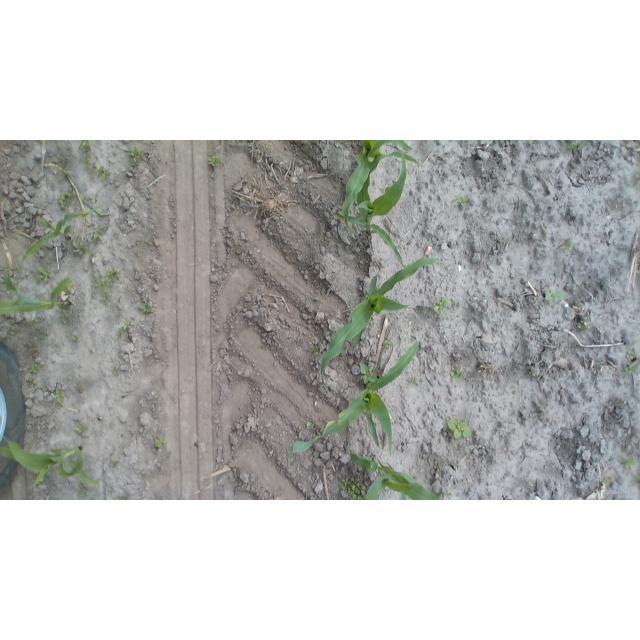Maize: (319, 257, 437, 391), (291, 341, 421, 455), (332, 151, 406, 268), (342, 140, 419, 232), (1, 435, 100, 491), (351, 449, 442, 500), (22, 208, 95, 265), (1, 261, 73, 316), (44, 162, 69, 174)
Weeds: (82, 156, 111, 178), (339, 476, 364, 498), (448, 419, 472, 439), (360, 363, 379, 384), (434, 296, 449, 321), (73, 238, 90, 254), (36, 266, 52, 283), (104, 266, 120, 283), (568, 140, 589, 152), (450, 367, 465, 381), (118, 317, 133, 330), (130, 149, 143, 164), (546, 290, 565, 300), (622, 456, 636, 468), (74, 423, 89, 434), (55, 388, 65, 404), (95, 278, 105, 294), (79, 483, 90, 497), (137, 302, 152, 312), (308, 344, 320, 356), (79, 141, 93, 151), (153, 435, 164, 447), (209, 155, 220, 167), (60, 192, 68, 208), (385, 339, 396, 350), (93, 228, 103, 239), (564, 239, 574, 249), (103, 293, 113, 303), (407, 377, 418, 386), (61, 314, 71, 323), (577, 321, 587, 330), (74, 380, 83, 389), (86, 249, 96, 257), (627, 349, 635, 359), (30, 364, 39, 372), (306, 421, 314, 430), (162, 452, 170, 461), (629, 364, 635, 375), (459, 197, 466, 206), (112, 366, 118, 376), (26, 379, 34, 386), (635, 474, 640, 483), (529, 371, 536, 377), (118, 496, 128, 500), (113, 461, 118, 468), (117, 331, 121, 337), (72, 335, 76, 341), (529, 140, 534, 144)
